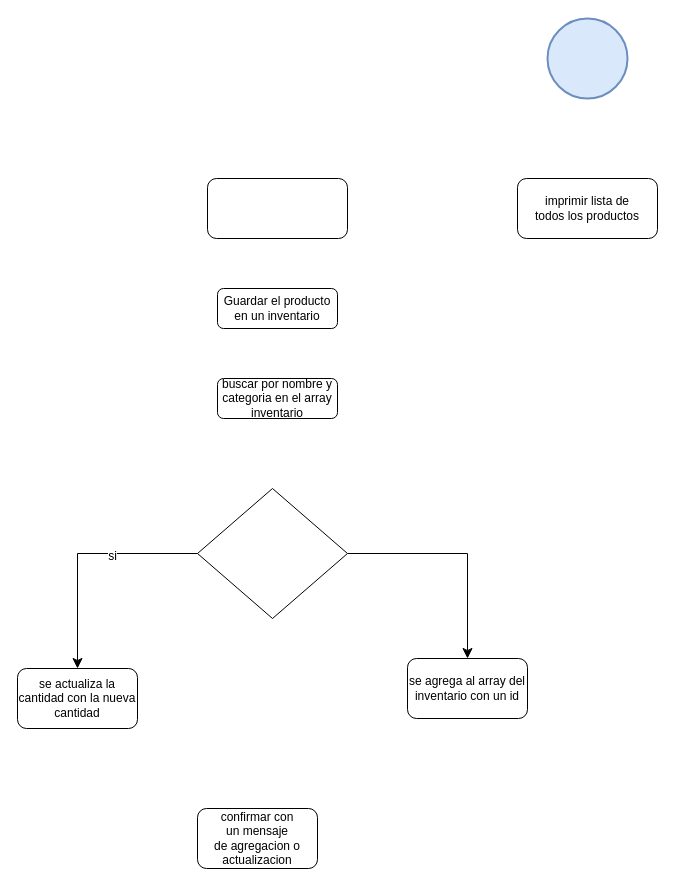
This 675x886 diagram has some shape labels left out. Each missing label, with the box of its shape:
crea producto pasando nombre, categoria, cantidad: (206, 178, 348, 238)
el producto ya existe en ese inventario?: (196, 488, 348, 618)
start: (546, 17, 628, 99)
